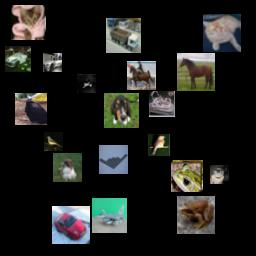airplane: (92, 198, 127, 233), (99, 145, 128, 174), (77, 74, 96, 93)
automobile: (52, 206, 90, 244), (5, 46, 31, 72), (43, 53, 62, 72)
bird: (15, 93, 47, 125), (148, 134, 170, 156), (44, 132, 63, 151)
cat: (203, 14, 241, 52), (11, 5, 46, 40)
dog: (104, 93, 139, 128), (53, 153, 82, 182), (210, 165, 229, 184)
frog: (177, 196, 215, 234), (171, 160, 203, 192)
ship: (149, 91, 175, 117)
truck: (106, 18, 141, 53)
